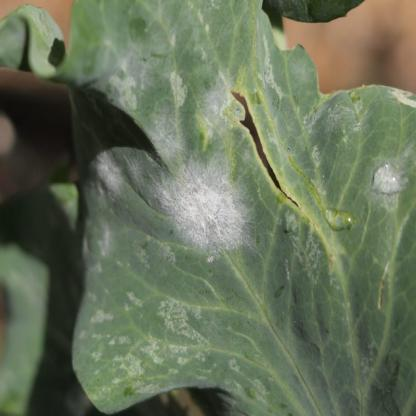Squash Powdery mildew leaf: (147, 146, 271, 280)
